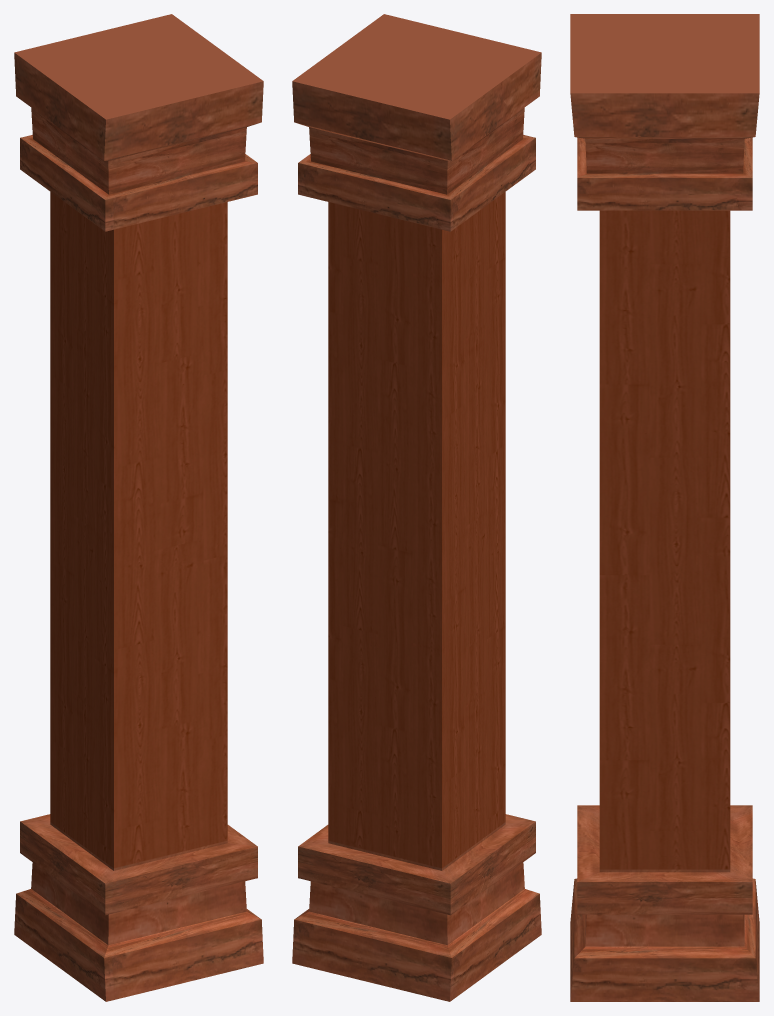
The model's file is Column (1).fbx.
3 renders of one model, left to right at view 1: azimuth 30°, elevation 25°; view 2: azimuth 150°, elevation 25°; view 3: azimuth 270°, elevation 25°, orthographic. The views are drawn at different scales.
Visible parts, largest first — view 1: pCube3; view 2: pCube3; view 3: pCube3.
Part boxes in pixels (bbox=[...]): pCube3: bbox=[14, 14, 263, 1001]; pCube3: bbox=[292, 14, 541, 1001]; pCube3: bbox=[570, 14, 759, 1001].
Size of the model in its own units: 2.55 by 13.65 by 2.58.
